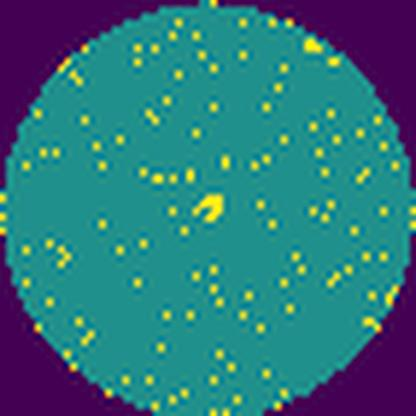Center: (195, 194, 222, 224)
